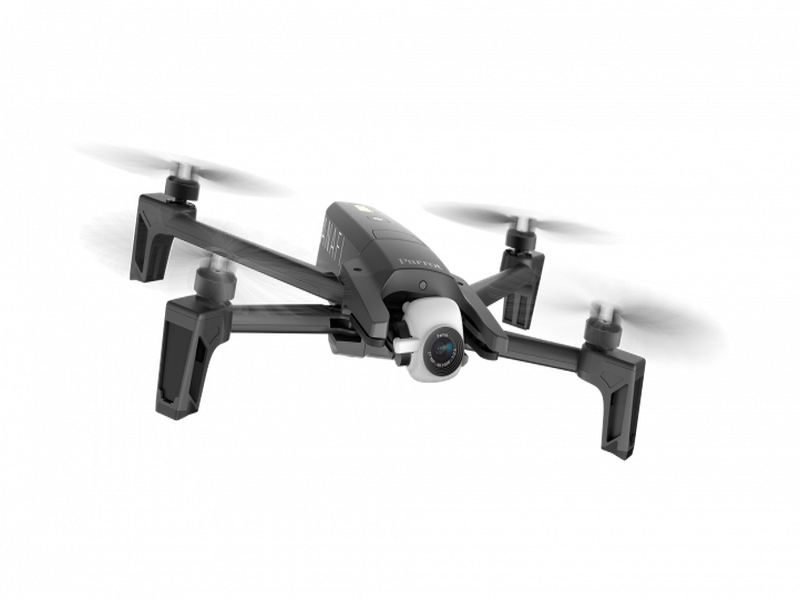enemy: (129, 166, 646, 461)
